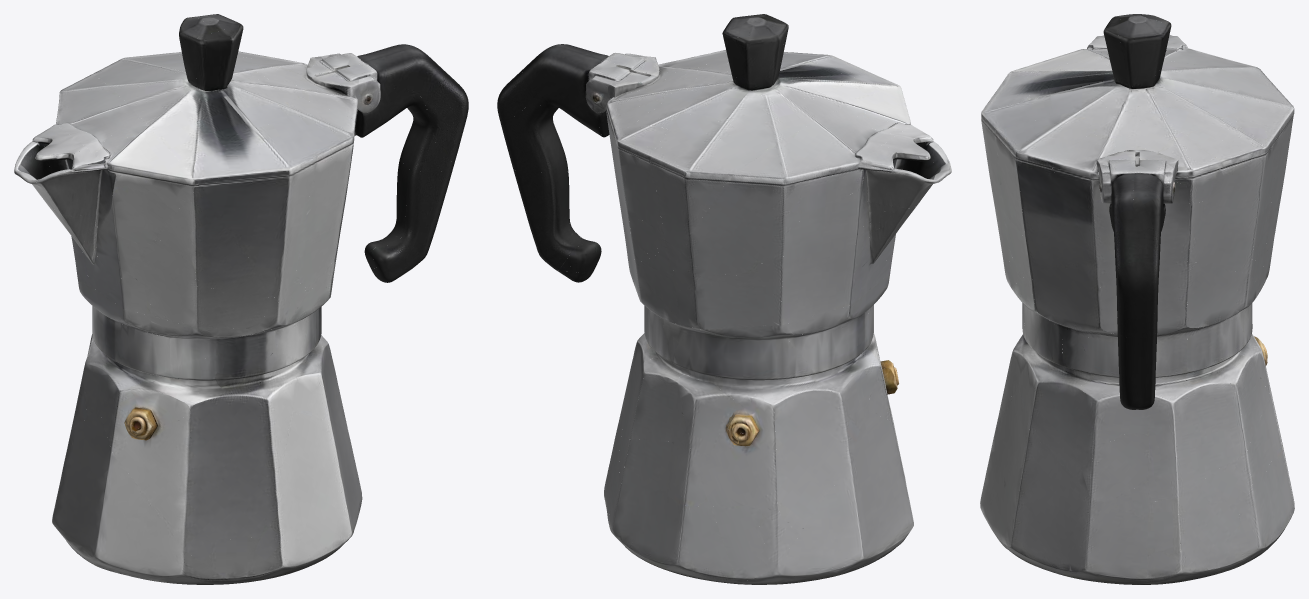
The model's file is moka.glb.
3 views of the same model, side by side, from view 1: azimuth 30°, elevation 25°; view 2: azimuth 150°, elevation 25°; view 3: azimuth 270°, elevation 25° (orthographic).
Parts seen in each view (by area): view 1: tripo_node_28659a49-089a-45b2-b115-a25c1b060422; view 2: tripo_node_28659a49-089a-45b2-b115-a25c1b060422; view 3: tripo_node_28659a49-089a-45b2-b115-a25c1b060422.
Boxes of the visible parts, x1,y1,x2,y2 form: tripo_node_28659a49-089a-45b2-b115-a25c1b060422: [14, 14, 468, 584]; tripo_node_28659a49-089a-45b2-b115-a25c1b060422: [497, 14, 951, 584]; tripo_node_28659a49-089a-45b2-b115-a25c1b060422: [980, 14, 1294, 584].
Bounding box in the file's own units: 0.9045 × 0.9777 × 0.5524.
1 material, 1 textured.
